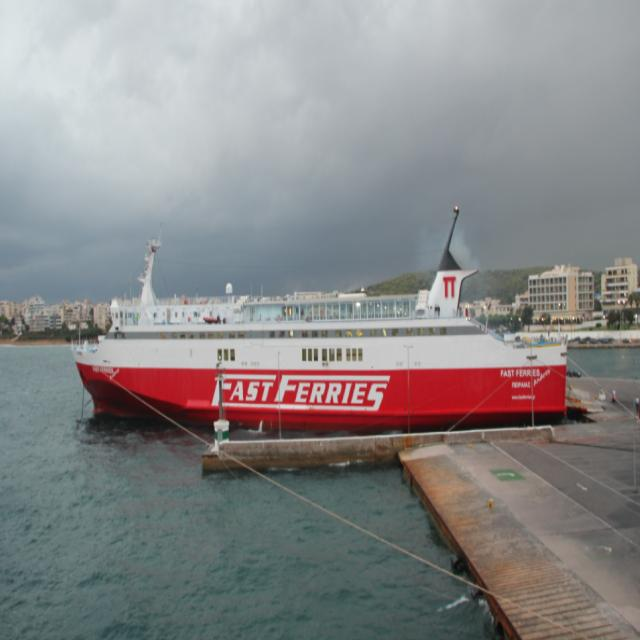passenger ship: (71, 241, 577, 424)
